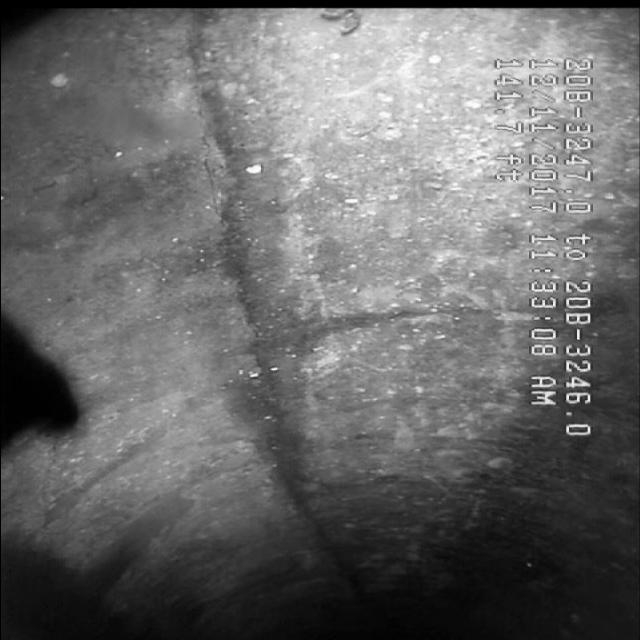Crack: (182, 63, 372, 542)
